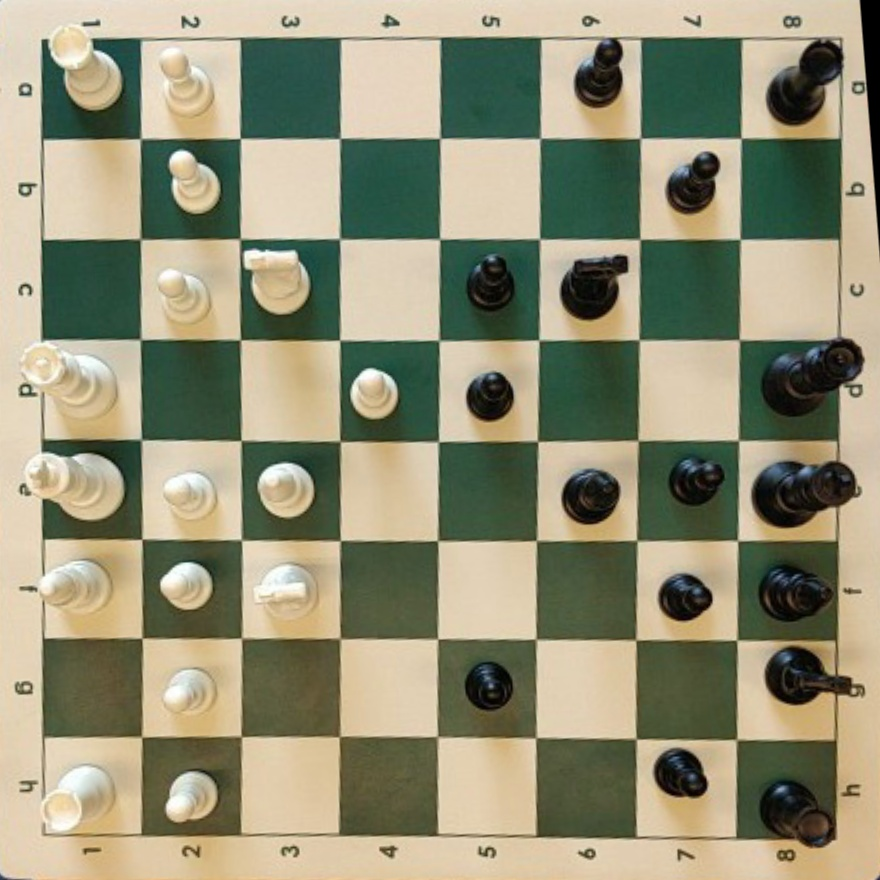black-bishop: (759, 564, 833, 621), (562, 462, 618, 518)
black-king: (754, 460, 858, 527)
black-knight: (766, 647, 865, 704), (560, 255, 628, 319)
black-pawn: (574, 37, 624, 105), (667, 151, 720, 212), (669, 455, 725, 504), (654, 749, 709, 798), (467, 254, 515, 310), (659, 573, 713, 621), (466, 371, 514, 420), (465, 661, 513, 710)
black-queen: (764, 339, 864, 415)
black-rook: (767, 40, 842, 124), (760, 779, 834, 847)
white-bishop: (36, 559, 111, 612), (257, 462, 315, 518)
white-king: (21, 451, 124, 521)
white-knight: (244, 251, 310, 314), (254, 563, 316, 619)
white-pawn: (159, 48, 214, 116), (167, 149, 221, 214), (157, 269, 210, 324), (164, 770, 218, 823), (162, 470, 216, 519), (159, 561, 212, 610), (350, 368, 399, 419), (163, 667, 214, 714)
white-queen: (19, 344, 117, 418)
white-rook: (49, 28, 123, 112), (41, 764, 114, 834)
